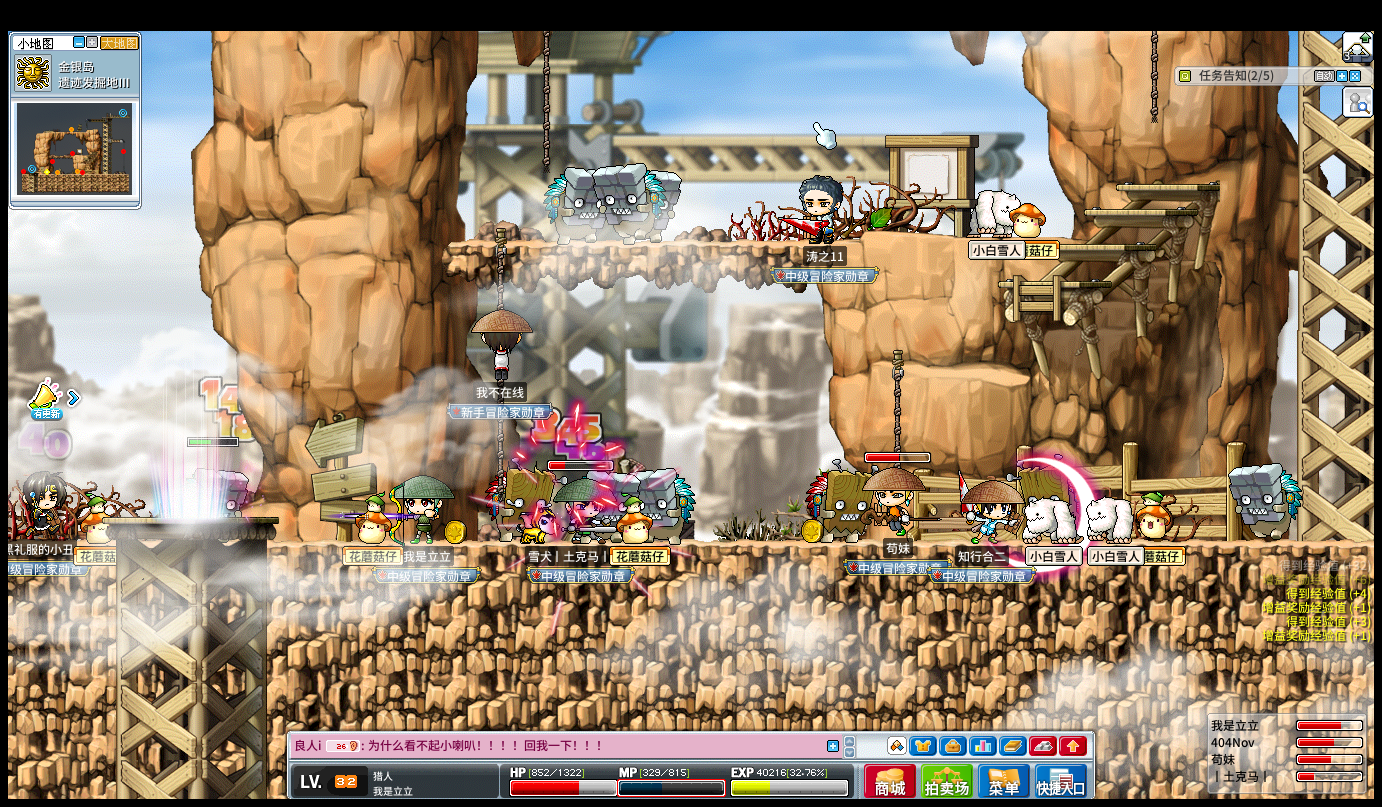floor: (267, 537, 1373, 550), (444, 238, 820, 252), (924, 364, 1031, 385), (101, 515, 280, 525), (8, 539, 116, 554), (996, 279, 1110, 291), (1077, 207, 1191, 216), (997, 280, 1110, 289), (1115, 182, 1219, 190), (1049, 243, 1157, 250), (1115, 184, 1220, 191)
monster: (593, 162, 674, 244), (1227, 463, 1303, 540), (803, 462, 874, 544), (487, 458, 555, 543), (543, 166, 596, 244), (644, 474, 698, 541), (214, 471, 251, 511)
rope: (889, 349, 903, 461), (543, 31, 551, 178), (492, 227, 506, 310), (1148, 30, 1157, 121)
